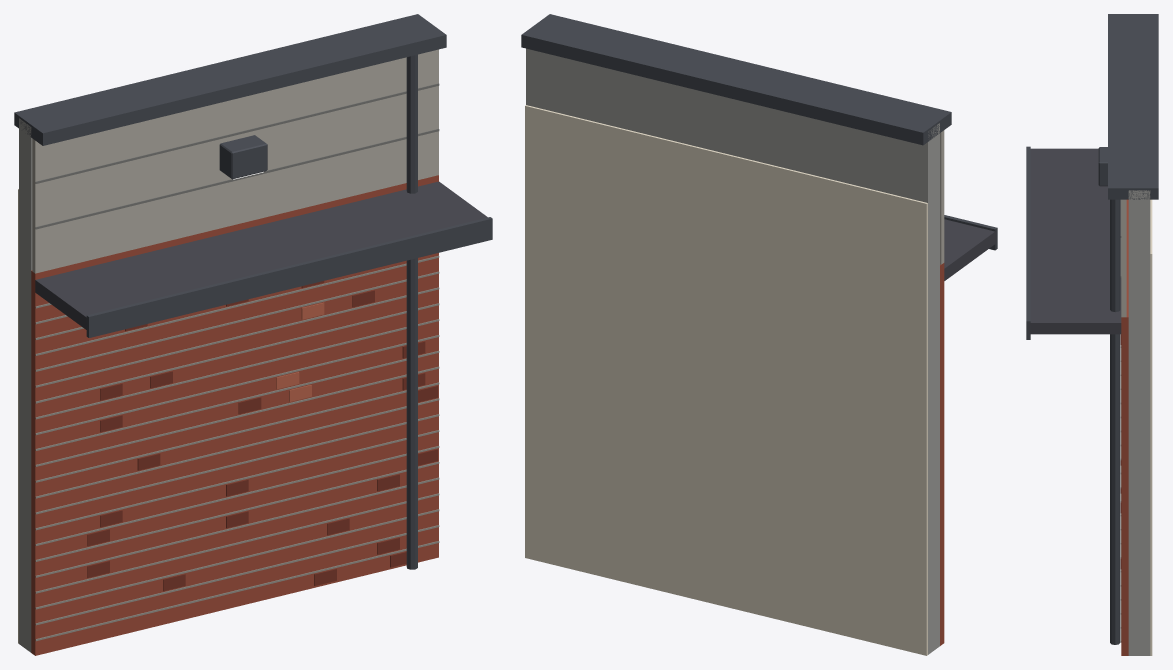
File: Mart_Wall_Plain_4m.fbx
3 views of the same model, side by side, from view 1: azimuth 30°, elevation 25°; view 2: azimuth 150°, elevation 25°; view 3: azimuth 270°, elevation 25° (orthographic). The views are drawn at different scales.
Visible parts, largest first — view 1: Mart_Wall_Plain_4m; view 2: Mart_Wall_Plain_4m; view 3: Mart_Wall_Plain_4m.
Boxes of the visible parts, <box> form: Mart_Wall_Plain_4m: <box>14,14,492,655</box>; Mart_Wall_Plain_4m: <box>521,14,997,655</box>; Mart_Wall_Plain_4m: <box>1026,14,1158,655</box>.
Size of the model in its own units: 4 by 5 by 1.28.
1 material, 1 textured.
